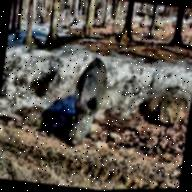boar: (57, 53, 116, 149)
